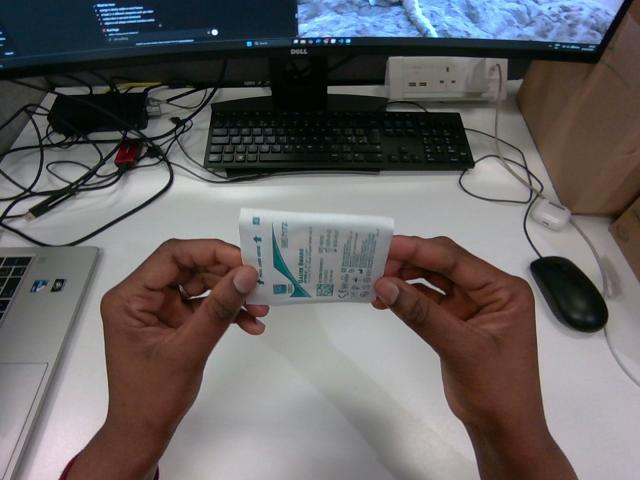gauze: (239, 208, 393, 304)
